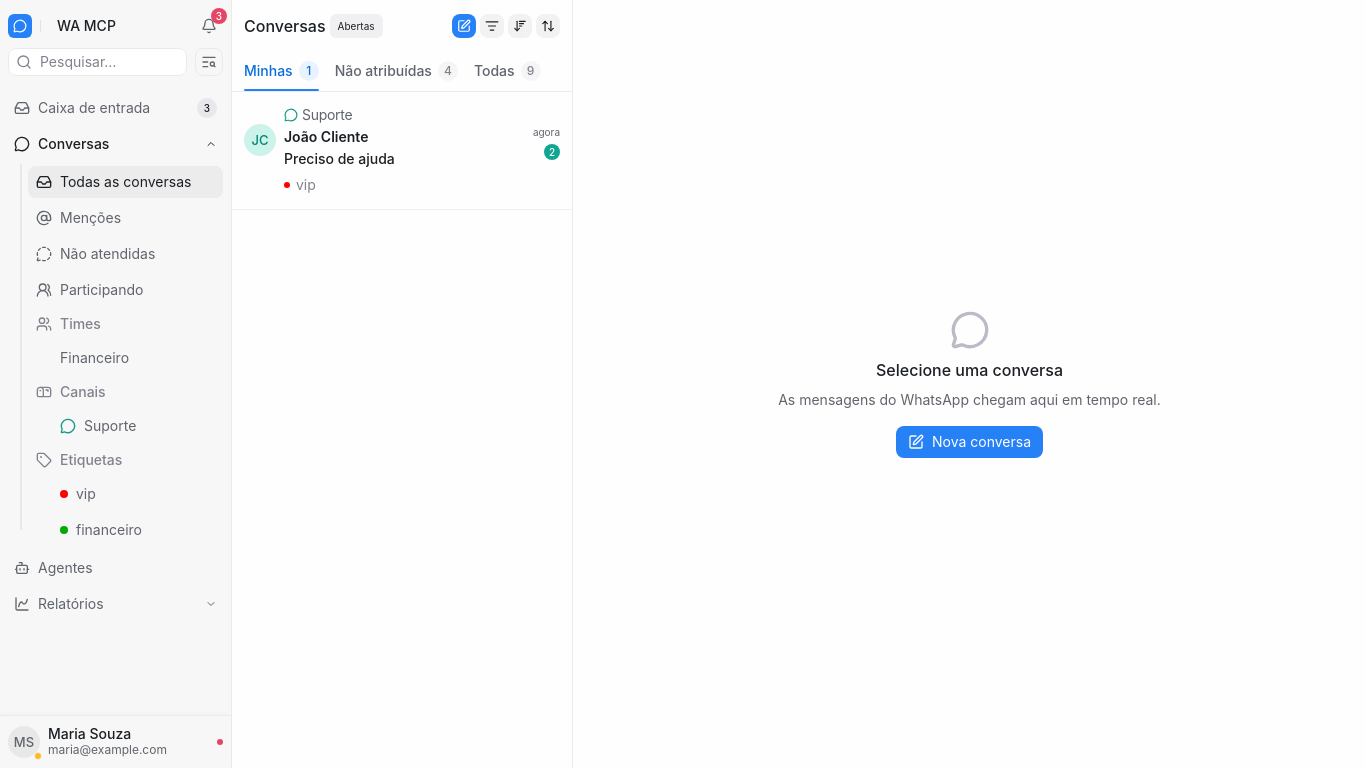
Test: navigation by permission › shows reports and hides contacts for a role with report_manage only
expect the heading "Conversas" is shown: met, box [244,14,326,38]
expect the button "Contatos" is not shown: met
Click the button "Relatórios" at (116, 604), box [8,588,223,620]
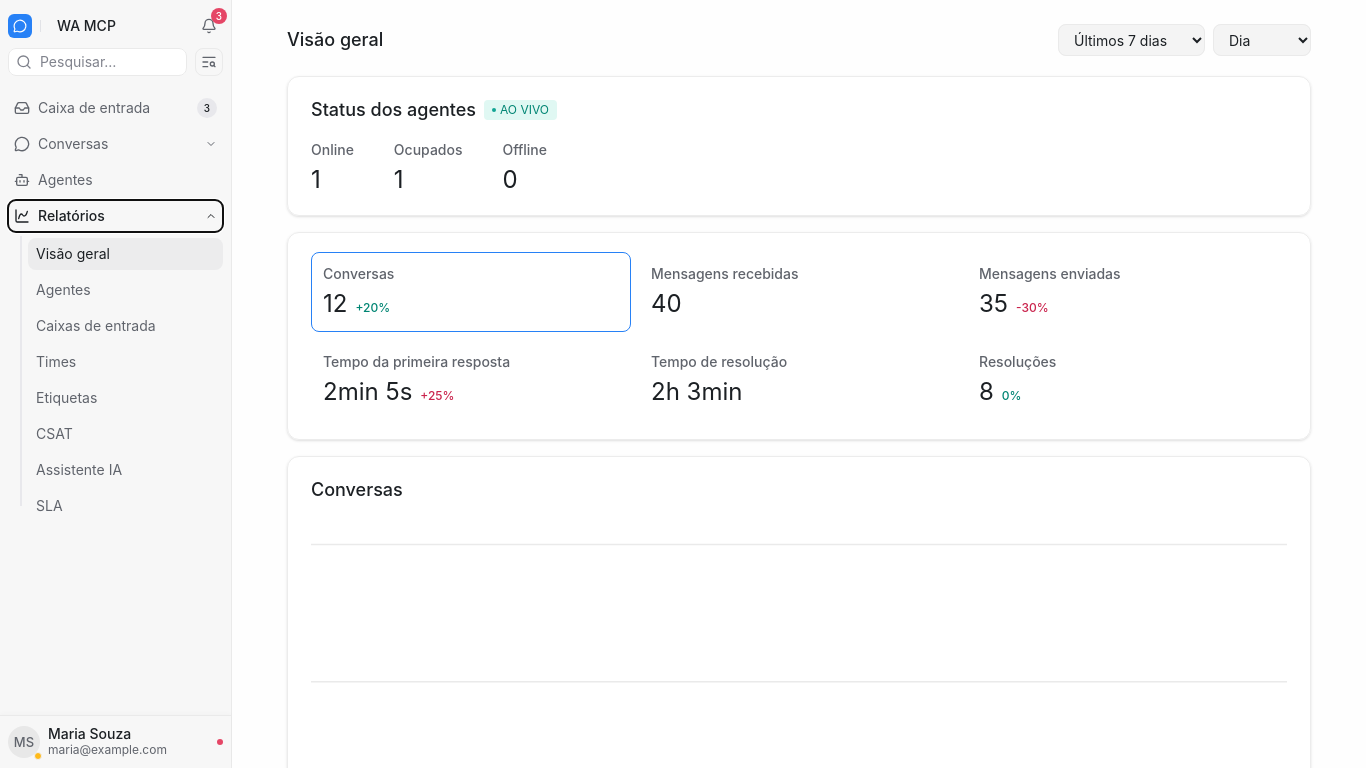
expect the heading "Visão geral" is shown: met, box [287,28,383,52]
Note: A contact reached from the global search shows the no-access page.
Click the button named "Pesquisa global" at (209, 62), box [195,48,223,76]
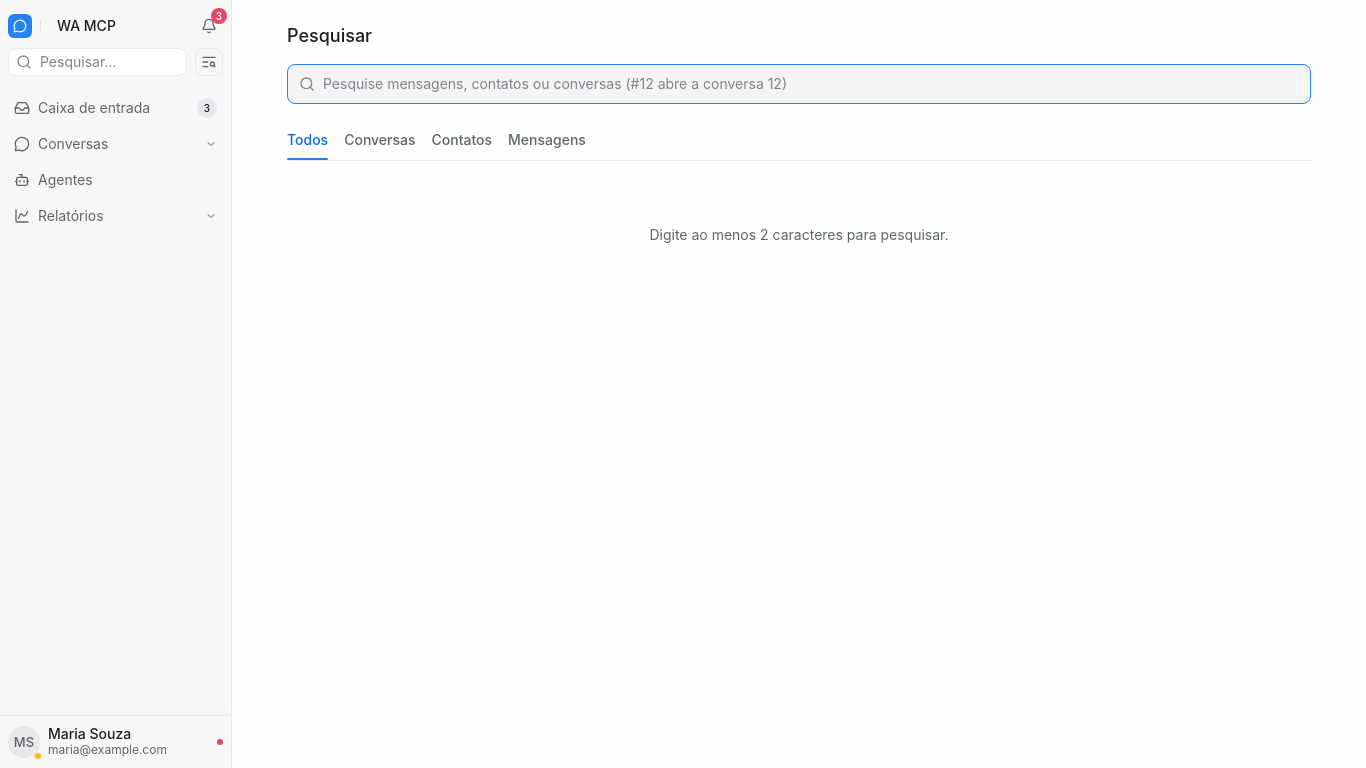
Type "joão" into the field named "Pesquisar mensagens, contatos ou conversas" at (811, 84), box [323,74,1299,94]
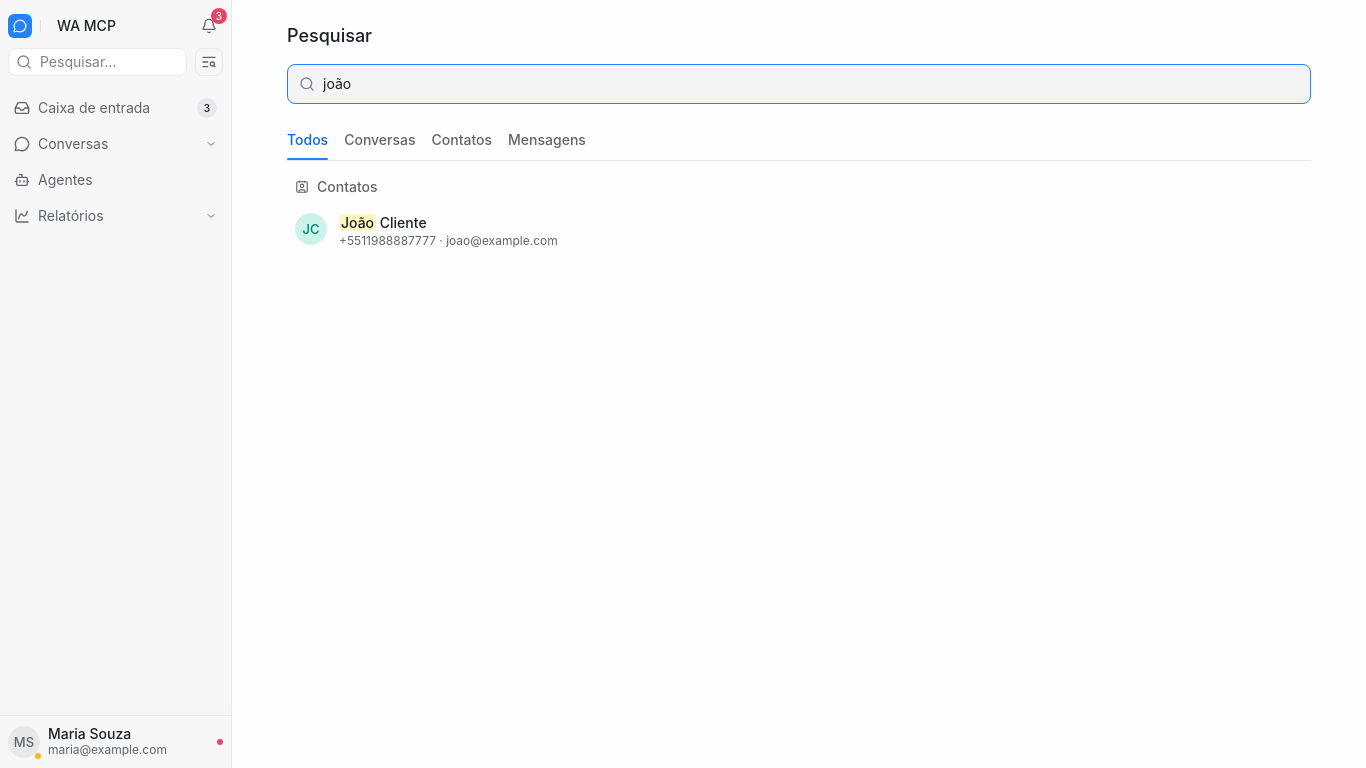
Click the button that starts with "João" at (311, 229), box [287,205,1311,257]
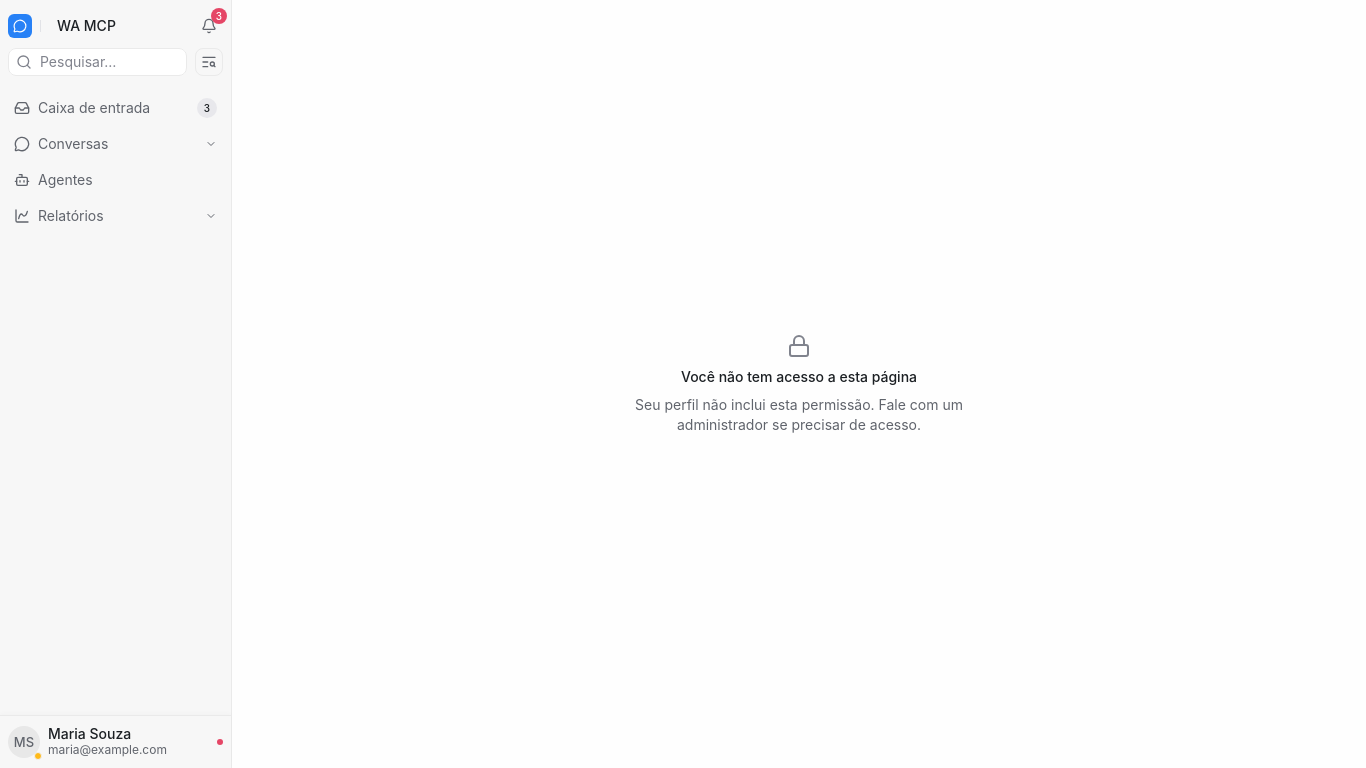
expect the text "Você não tem acesso a esta página" is shown: met, box [681,366,917,386]
